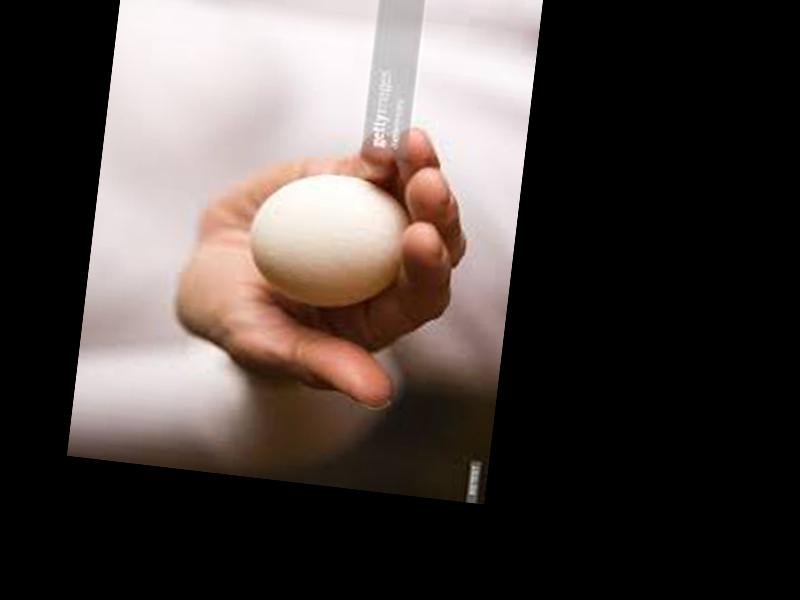Eggs: (244, 166, 413, 317)
